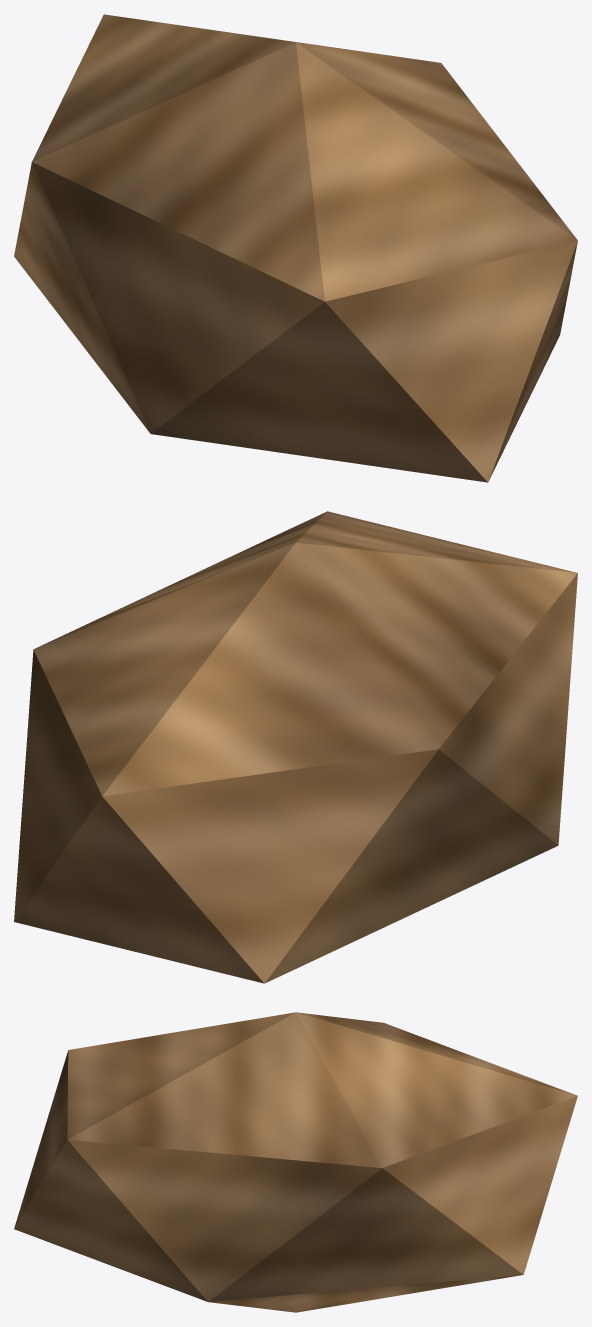
File: 2026_sandstone_talus_21.dae
3 renders of one model, top to bottom at view 1: azimuth 30°, elevation 25°; view 2: azimuth 150°, elevation 25°; view 3: azimuth 270°, elevation 25°, orthographic. The views are drawn at different scales.
Parts seen in each view (by area): view 1: Node; view 2: Node; view 3: Node.
Part boxes in pixels (box(x1,y1,x2,y2)): Node: box(14, 14, 577, 482); Node: box(14, 511, 577, 983); Node: box(14, 1012, 577, 1312).
Bounding box in the file's own units: 0.6746 × 1.1 × 0.6491.
Materials: 1 (1 with a texture image).
